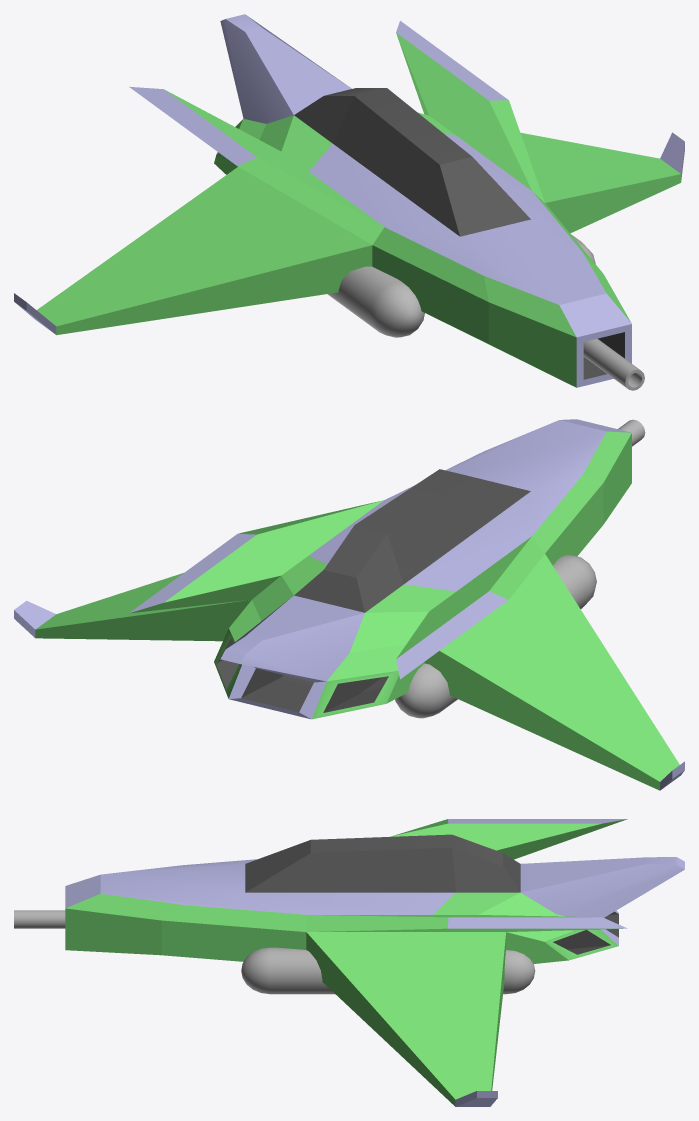
File: FighterShip.fbx
3 renders of one model, top to bottom at view 1: azimuth 30°, elevation 25°; view 2: azimuth 150°, elevation 25°; view 3: azimuth 270°, elevation 25°, orthographic. The views are drawn at different scales.
Visible parts, largest first — view 1: Fighter, pCylinder1, Gun; view 2: Fighter, pCylinder1; view 3: Fighter, pCylinder2, Gun.
Part boxes in pixels (bbox=[...]): Fighter: bbox=[14, 14, 684, 387]; pCylinder1: bbox=[327, 266, 424, 337]; Gun: bbox=[583, 338, 644, 390]; Fighter: bbox=[14, 419, 684, 790]; pCylinder1: bbox=[395, 555, 596, 718]; Fighter: bbox=[65, 819, 684, 1106]; pCylinder2: bbox=[241, 947, 535, 994]; Gun: bbox=[14, 910, 65, 928].
Bounding box in the file's own units: 24.74 × 6.05 × 26.36.
